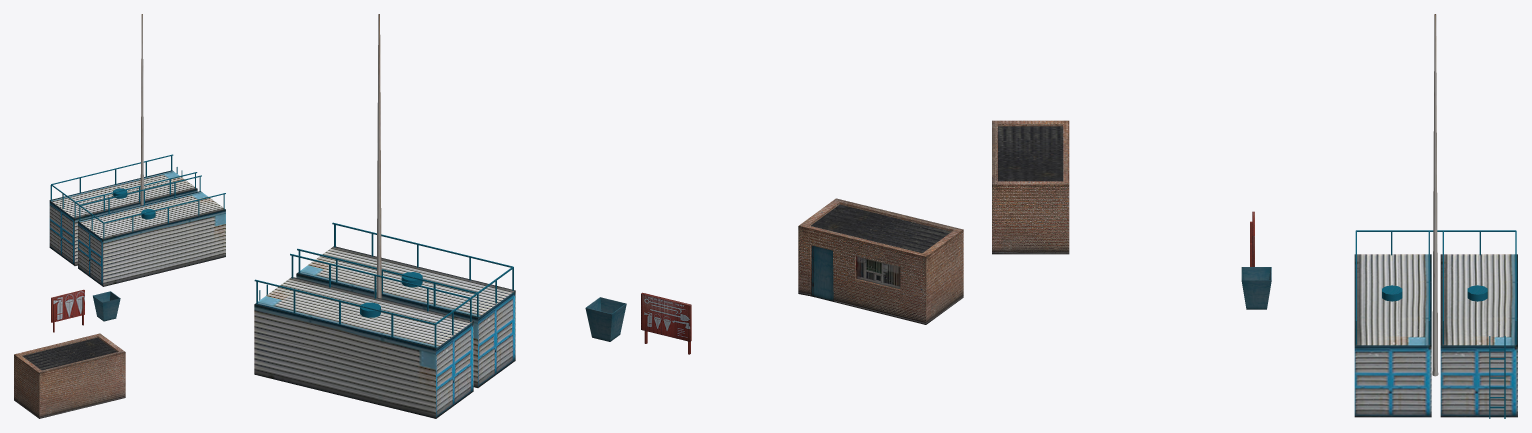
File: old-Gas-station.fbx
3 views of the same model, side by side, from view 1: azimuth 30°, elevation 25°; view 2: azimuth 150°, elevation 25°; view 3: azimuth 270°, elevation 25° (orthographic). The views are drawn at different scales.
Visible parts, largest first — view 1: Fuel_Tank, Old_Mart, Dust_Bin; view 2: Fuel_Tank, Old_Mart, Dust_Bin; view 3: Fuel_Tank, Old_Mart, Dust_Bin.
Part boxes in pixels (left/top/right/bottom): Fuel_Tank: left=49, top=14, right=225, bottom=286; Old_Mart: left=14, top=333, right=125, bottom=418; Dust_Bin: left=51, top=289, right=120, bottom=332; Fuel_Tank: left=254, top=14, right=515, bottom=418; Old_Mart: left=798, top=198, right=963, bottom=324; Dust_Bin: left=585, top=292, right=691, bottom=354; Fuel_Tank: left=1354, top=14, right=1517, bottom=418; Old_Mart: left=992, top=120, right=1069, bottom=254; Dust_Bin: left=1241, top=211, right=1271, bottom=309.
Size of the model in its own units: 2628 by 1949 by 2568.
1 material, 1 textured.
